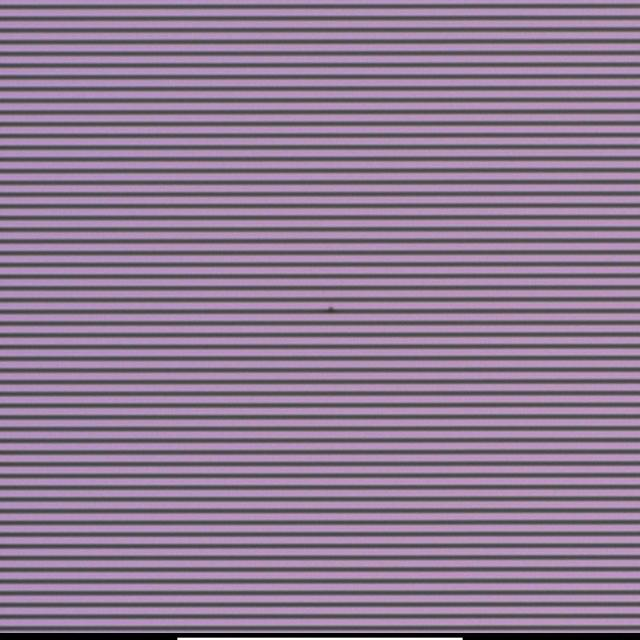03_intrusion: (326, 298, 338, 317)
